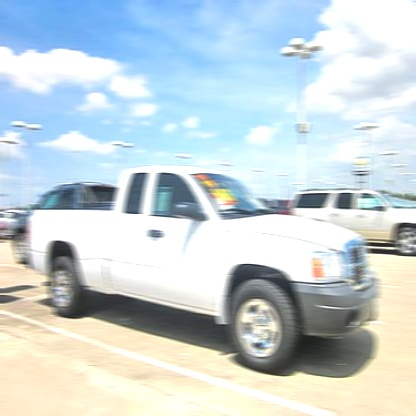Vehicle: (26, 165, 383, 374)
